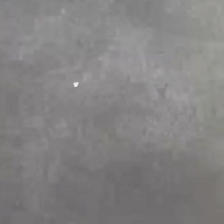Target: (70, 81, 79, 88)
